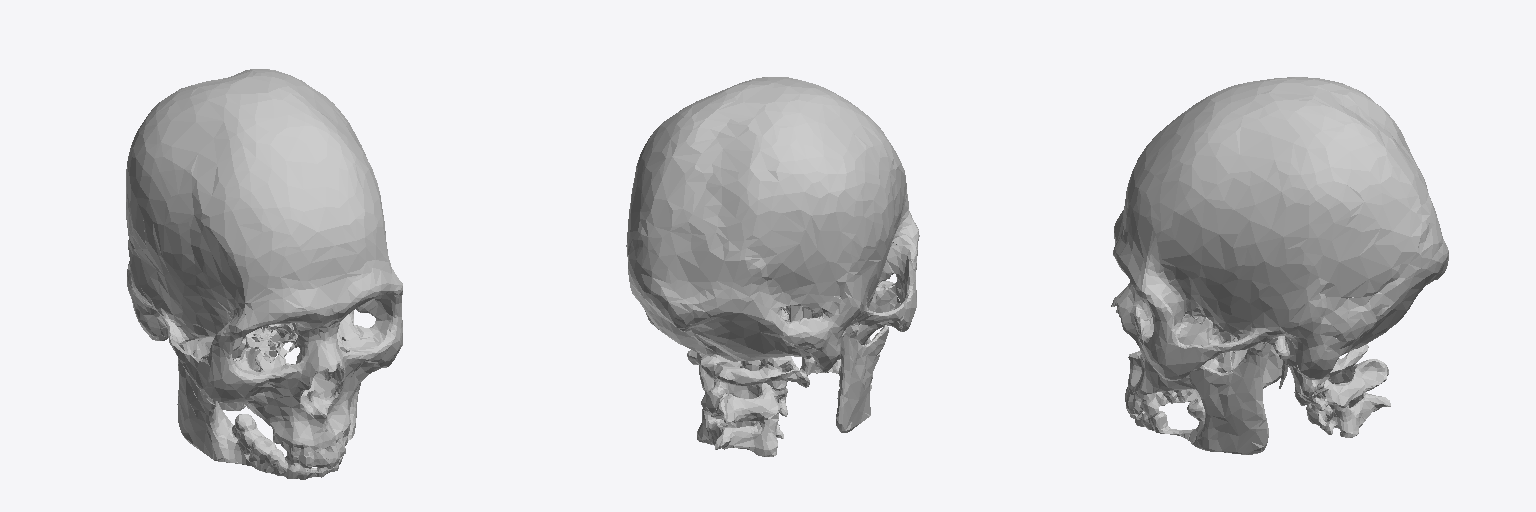
3 renders of one model, left to right at view 1: azimuth 30°, elevation 25°; view 2: azimuth 150°, elevation 25°; view 3: azimuth 270°, elevation 25°, orthographic.
Parts seen in each view (by area): view 1: Polygonal_Model_5_Triangles_0; view 2: Polygonal_Model_5_Triangles_0; view 3: Polygonal_Model_5_Triangles_0.
Part boxes in pixels (bbox=[...]): Polygonal_Model_5_Triangles_0: bbox=[126, 69, 402, 479]; Polygonal_Model_5_Triangles_0: bbox=[626, 77, 919, 456]; Polygonal_Model_5_Triangles_0: bbox=[1111, 77, 1448, 454].
Size of the model in its own units: 5.45 by 7.85 by 7.26.